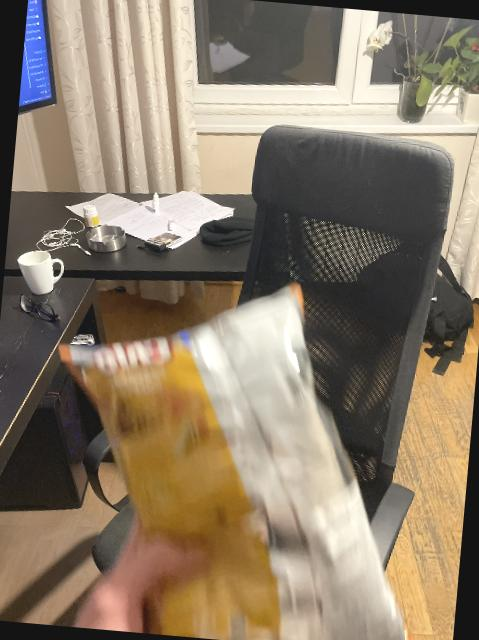Chio Cascaval 125g: (34, 263, 437, 640)
